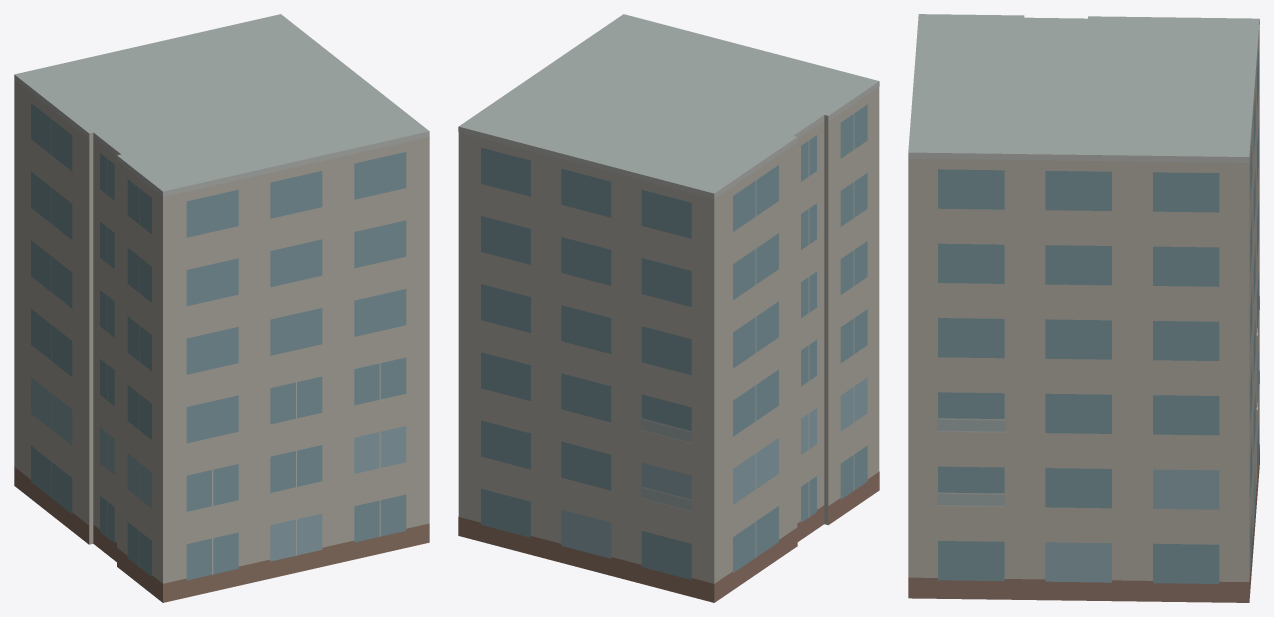
The model's file is survey-upis-32663196.glb.
3 views of the same model, side by side, from view 1: azimuth 30°, elevation 25°; view 2: azimuth 150°, elevation 25°; view 3: azimuth 270°, elevation 25° (orthographic). The views are drawn at different scales.
Visible parts, largest first — view 1: survey-upis-32663196.tmp; view 2: survey-upis-32663196.tmp; view 3: survey-upis-32663196.tmp.
Part boxes in pixels (box(x1,y1,x2,y2)): survey-upis-32663196.tmp: box(14, 14, 429, 602); survey-upis-32663196.tmp: box(458, 14, 879, 602); survey-upis-32663196.tmp: box(908, 14, 1259, 602).
Bounding box in the file's own units: 12.61 × 18.3 × 13.09.
